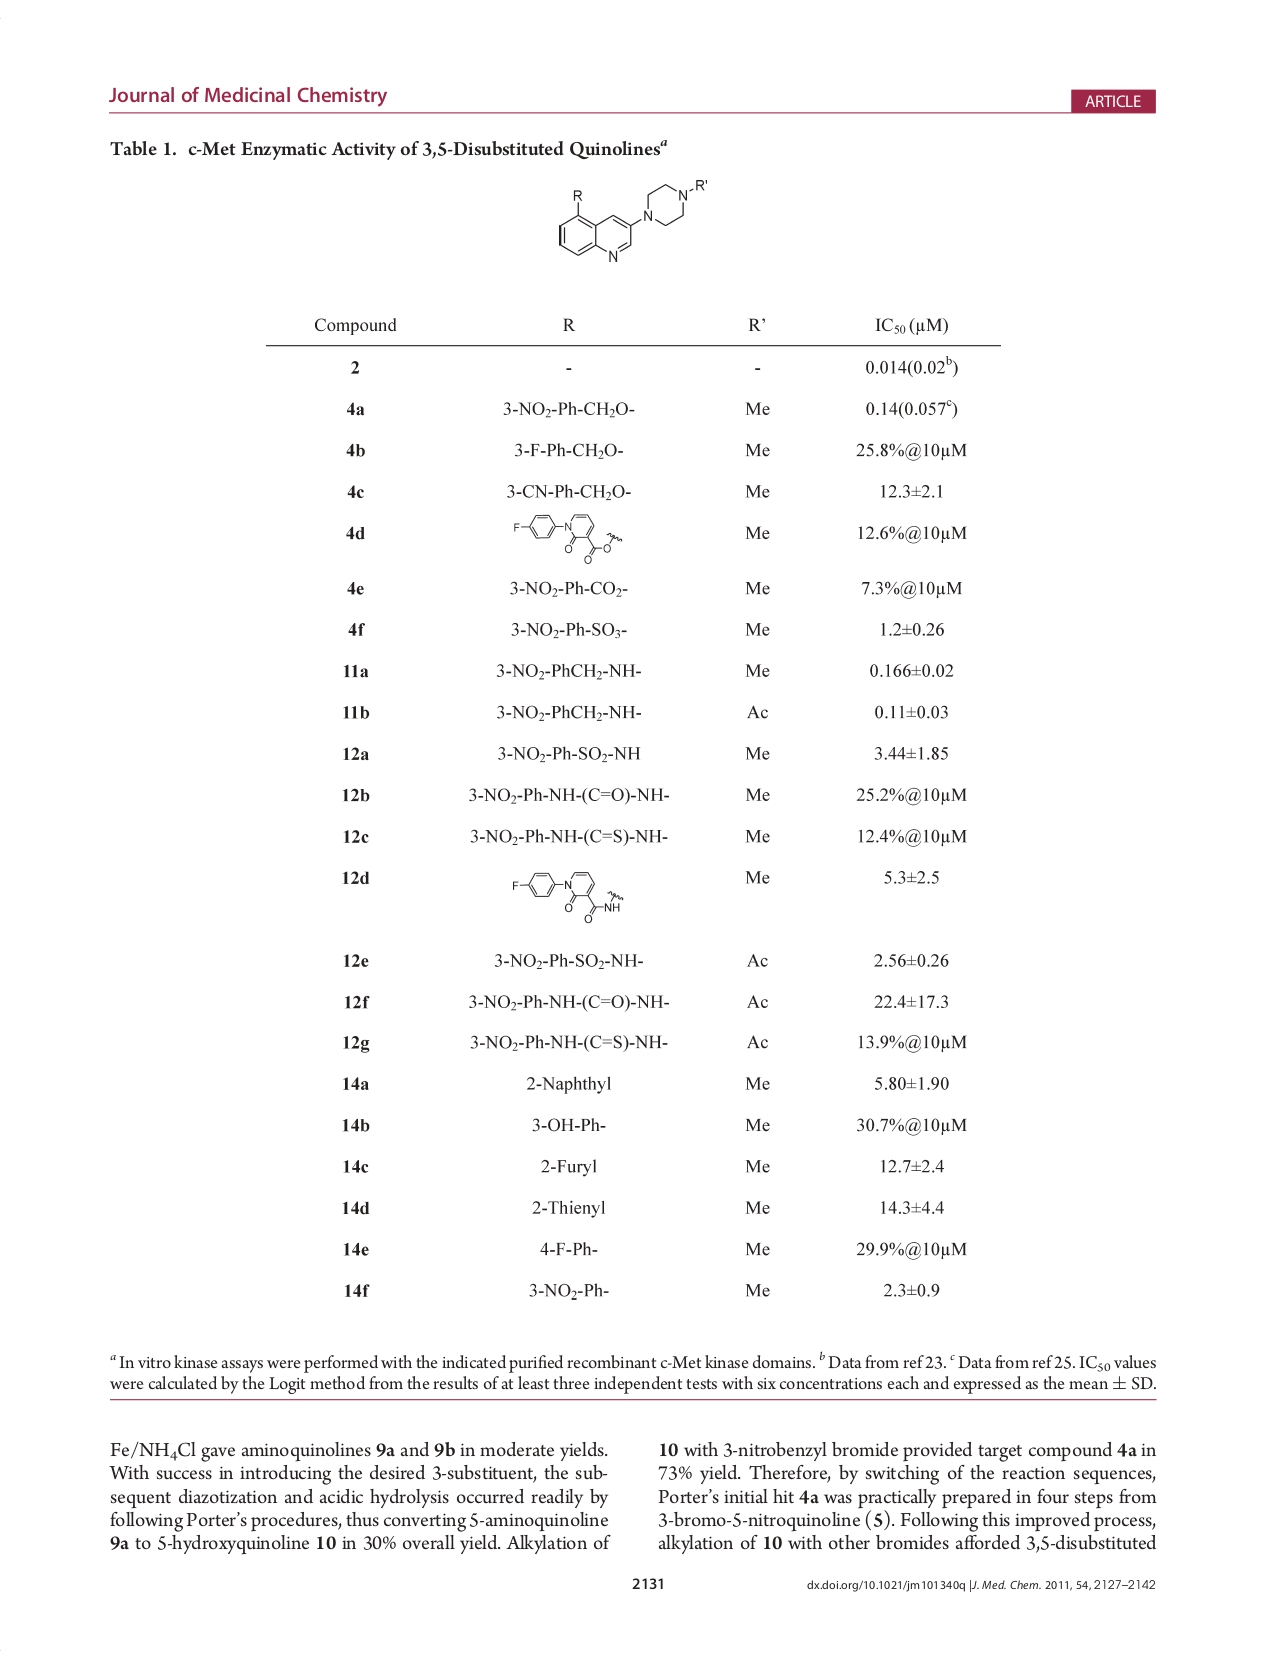exist_molecular: (545, 177, 711, 262), (504, 868, 628, 932), (509, 505, 624, 567)
